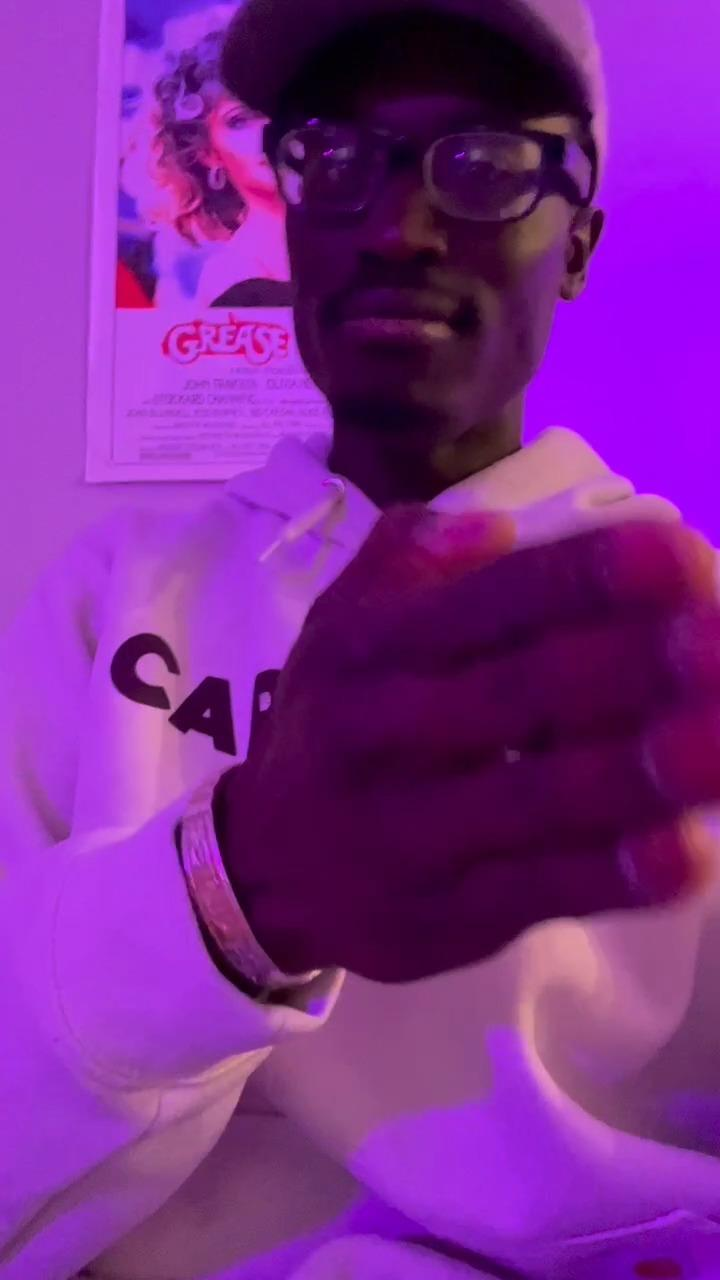Paper: (236, 488, 720, 994)
